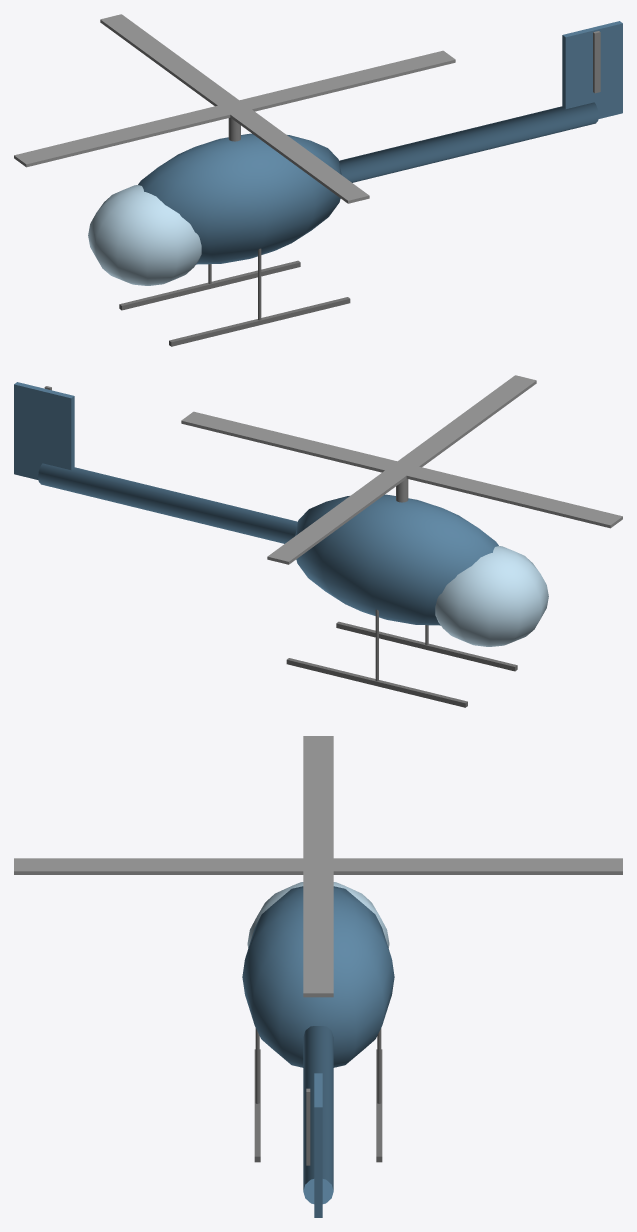
File: env-mod-helicopter.glb
3 renders of one model, top to bottom at view 1: azimuth 30°, elevation 25°; view 2: azimuth 150°, elevation 25°; view 3: azimuth 270°, elevation 25°, orthographic. The views are drawn at different scales.
Size of the model in its own units: 8.4 by 2.65 by 6.
